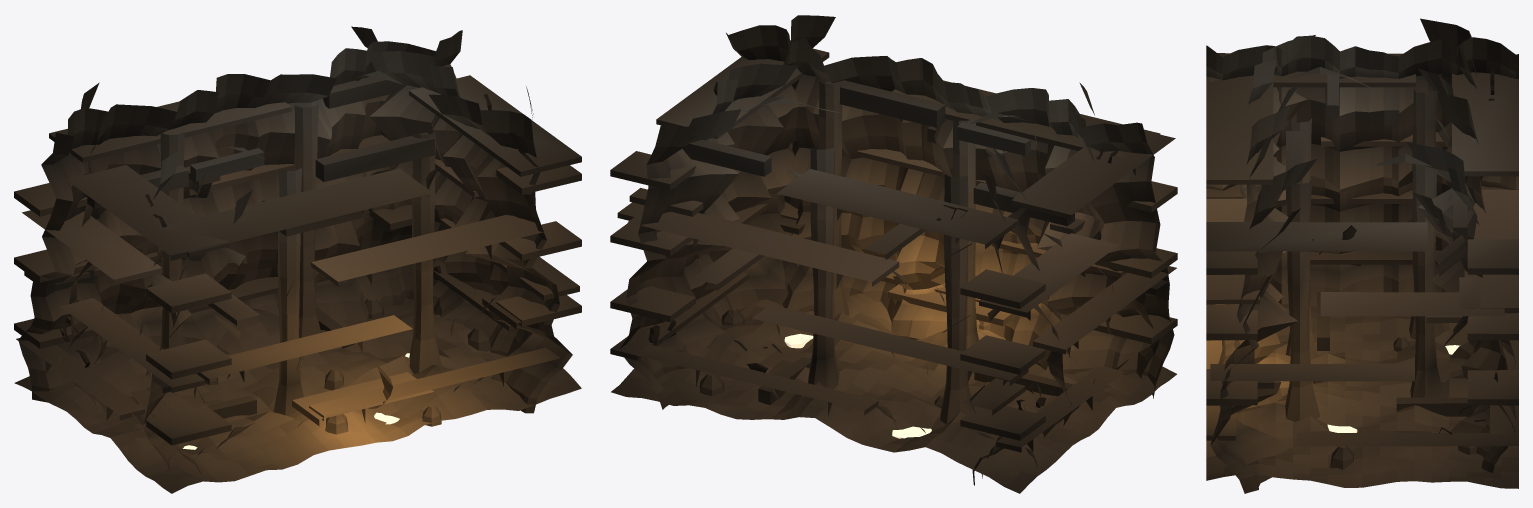
The model's file is hollow.glb.
The picture shows the model from 3 angles, left to right: view 1: azimuth 30°, elevation 25°; view 2: azimuth 150°, elevation 25°; view 3: azimuth 270°, elevation 25°; orthographic projection.
Visible parts, largest first — view 1: hollow_shell, hollow_ledges, hollow_deco; view 2: hollow_shell, hollow_ledges, hollow_deco, hollow_pools; view 3: hollow_shell, hollow_ledges, hollow_deco.
Part boxes in pixels (x1=…): hollow_shell: x1=14, y1=26, x2=581, y2=493; hollow_ledges: x1=14, y1=75, x2=581, y2=445; hollow_deco: x1=59, y1=77, x2=521, y2=434; hollow_shell: x1=611, y1=15, x2=1176, y2=493; hollow_ledges: x1=610, y1=48, x2=1177, y2=452; hollow_deco: x1=629, y1=80, x2=1167, y2=424; hollow_pools: x1=784, y1=333, x2=931, y2=448; hollow_shell: x1=1206, y1=18, x2=1518, y2=493; hollow_ledges: x1=1206, y1=53, x2=1518, y2=446; hollow_deco: x1=1206, y1=69, x2=1494, y2=469.
Bounding box in the file's own units: 96 × 63.64 × 64.
